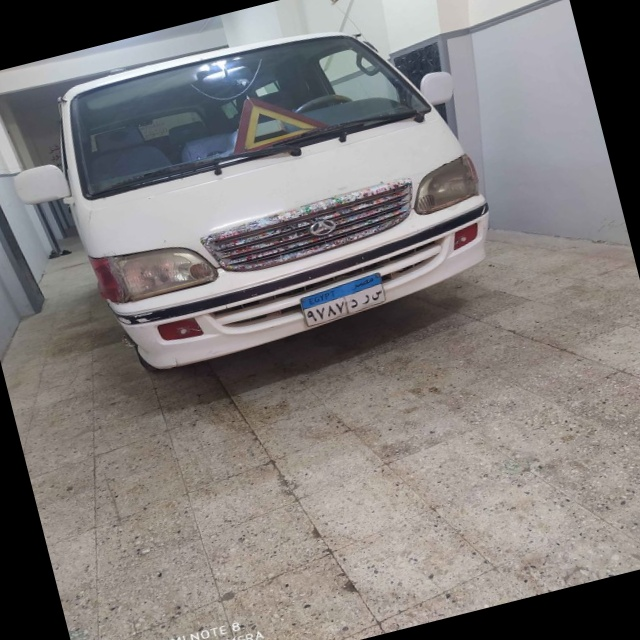License Plate: (297, 271, 389, 329)
